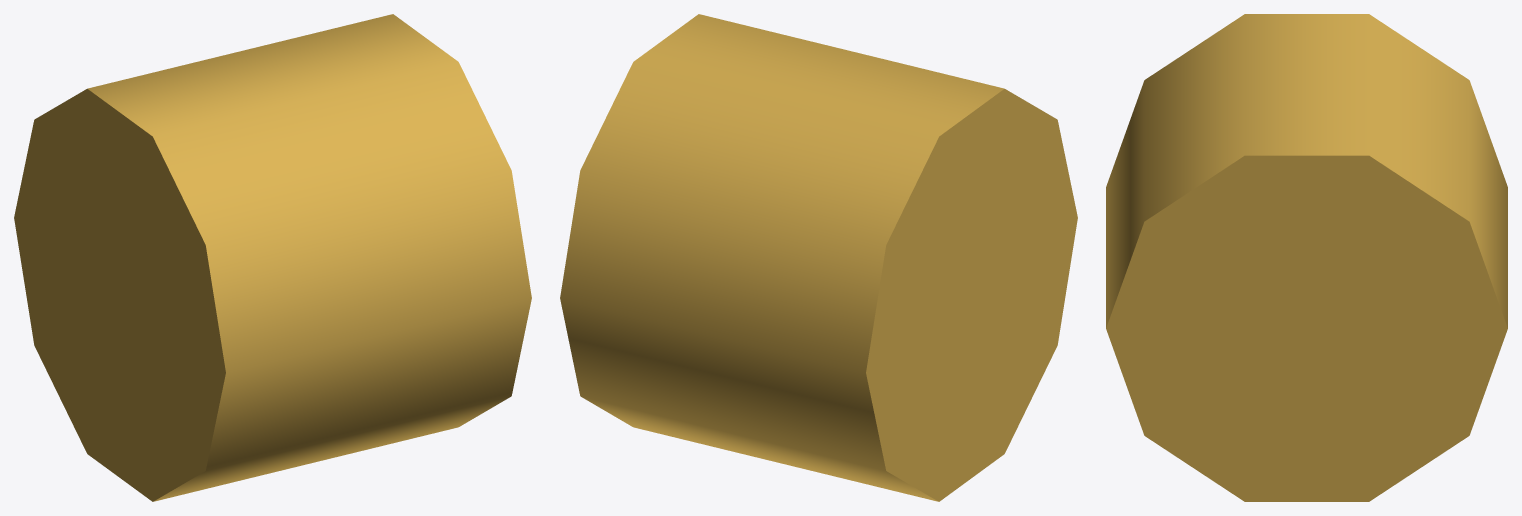
File: prop-hay.glb
The picture shows the model from 3 angles, left to right: view 1: azimuth 30°, elevation 25°; view 2: azimuth 150°, elevation 25°; view 3: azimuth 270°, elevation 25°; orthographic projection. The views are drawn at different scales.
Parts seen in each view (by area): view 1: 00_#d8b050_r320; view 2: 00_#d8b050_r320; view 3: 00_#d8b050_r320.
Boxes of the visible parts, box(x1,y1,x2,y2) form: 00_#d8b050_r320: box(14, 14, 531, 501); 00_#d8b050_r320: box(560, 14, 1077, 501); 00_#d8b050_r320: box(1106, 14, 1507, 501).
Size of the model in its own units: 1 by 1.14 by 1.2.
